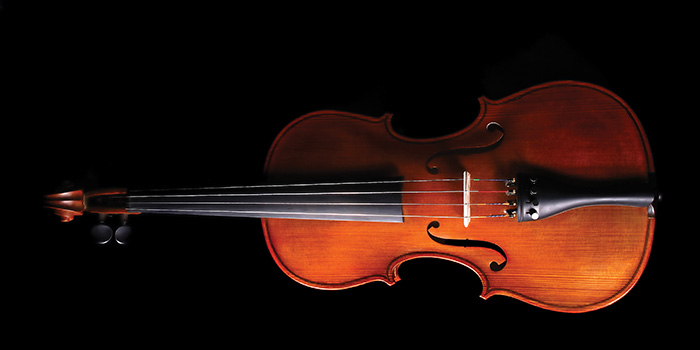Fiddle: (46, 85, 659, 325)
